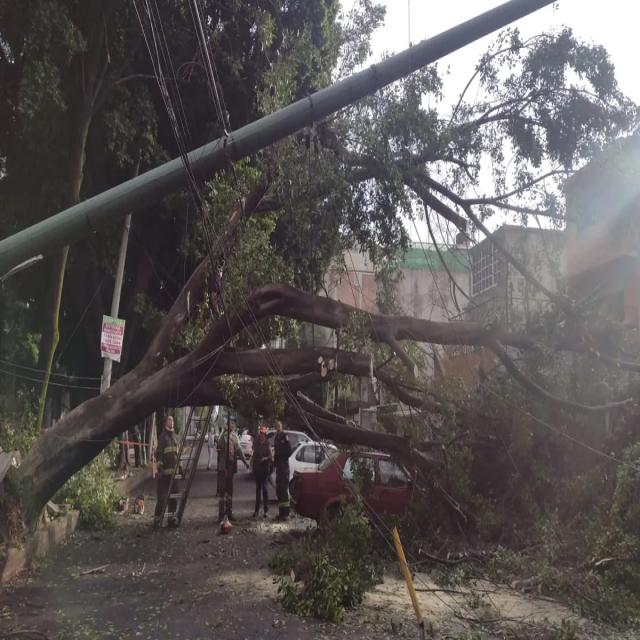Inclined Pole: (0, 0, 558, 281)
